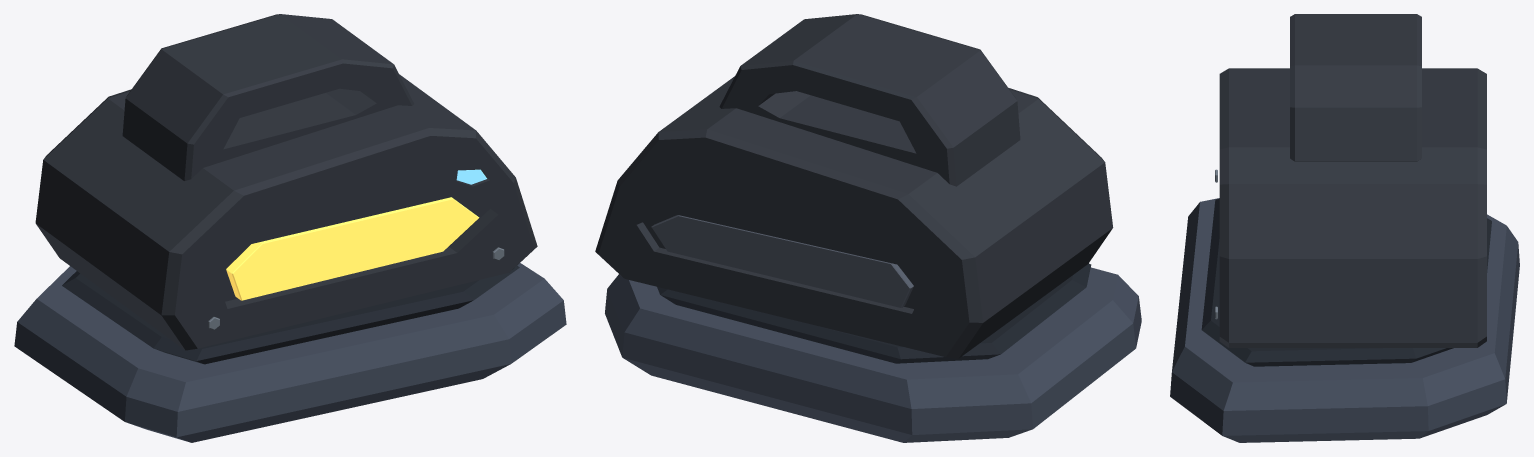
Rendered from Stim.fbx.
3 views of the same model, side by side, from view 1: azimuth 30°, elevation 25°; view 2: azimuth 150°, elevation 25°; view 3: azimuth 270°, elevation 25° (orthographic). The views are drawn at different scales.
Parts seen in each view (by area): view 1: Base, Skid, Coil_Yellow, Seat; view 2: Base, Skid, ServicePanel, Seat; view 3: Base, Skid, Seat.
Part boxes in pixels (left/top/right/bottom): Base: left=35, top=14, right=537, bottom=350; Skid: left=14, top=263, right=566, bottom=442; Coil_Yellow: left=226, top=197, right=479, bottom=300; Seat: left=62, top=266, right=519, bottom=364; Base: left=595, top=14, right=1113, bottom=358; Skid: left=605, top=267, right=1141, bottom=442; ServicePanel: left=651, top=215, right=913, bottom=307; Seat: left=657, top=263, right=1091, bottom=363; Base: left=1219, top=14, right=1486, bottom=347; Skid: left=1170, top=198, right=1519, bottom=442; Seat: left=1201, top=199, right=1491, bottom=366.
Bounding box in the file's own units: 0.904 × 0.602 × 0.636.
